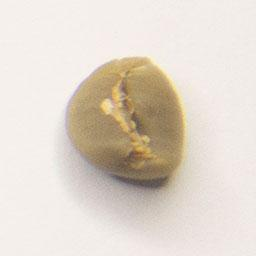premium: (62, 53, 189, 182)
